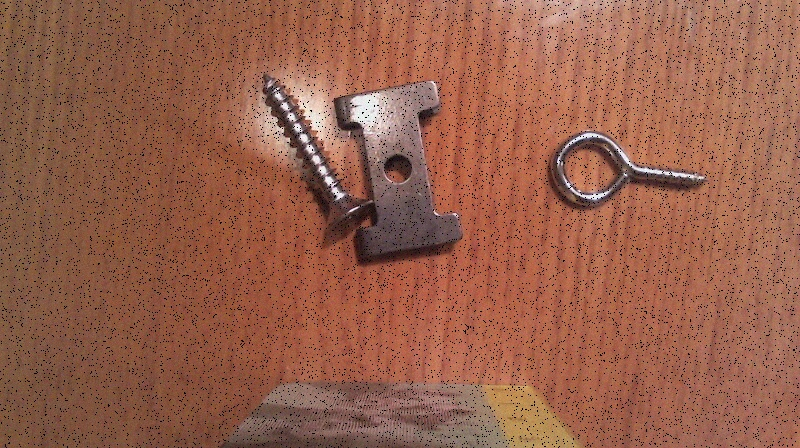O001: (545, 128, 716, 212)
O002: (330, 78, 463, 265)
S001: (259, 71, 376, 241)
